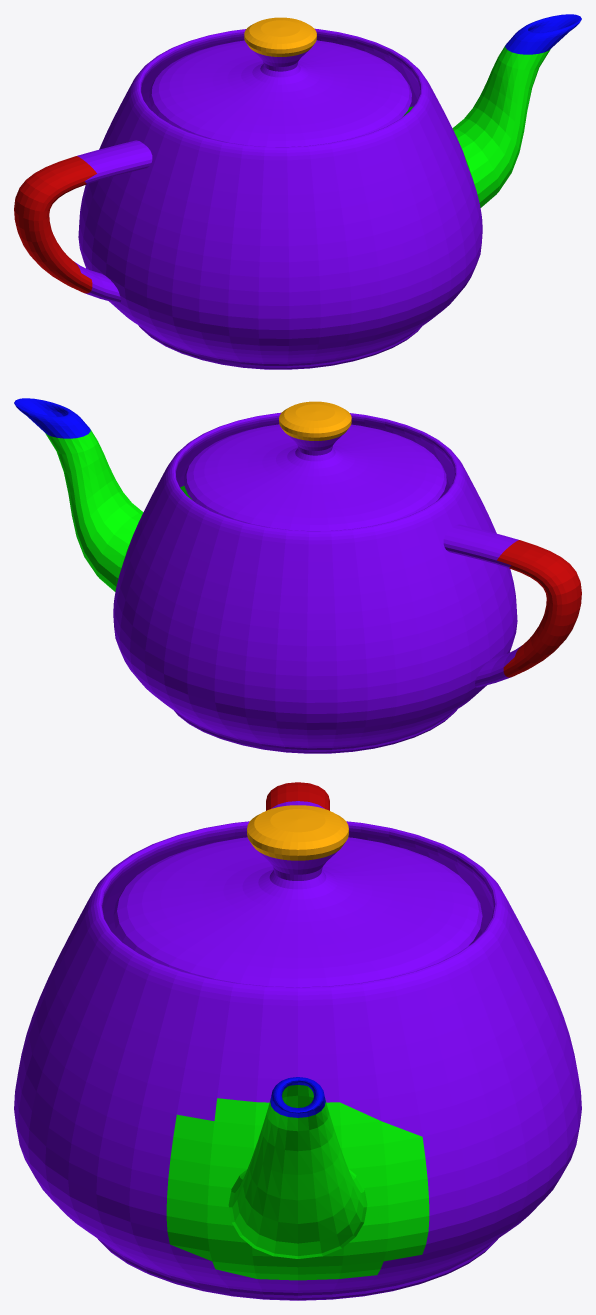
File: articulated_kettle.obj
3 renders of one model, top to bottom at view 1: azimuth 30°, elevation 25°; view 2: azimuth 150°, elevation 25°; view 3: azimuth 270°, elevation 25°, orthographic. The views are drawn at different scales.
Size of the model in its own units: 6.43 by 3.15 by 4.
